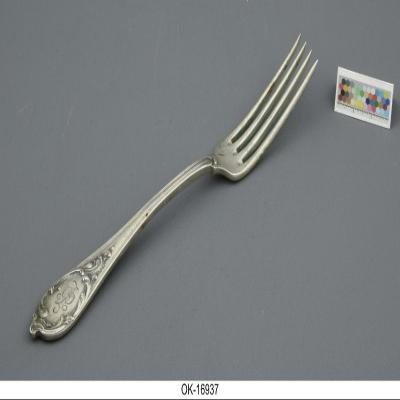dpi: (28, 34, 318, 345)
